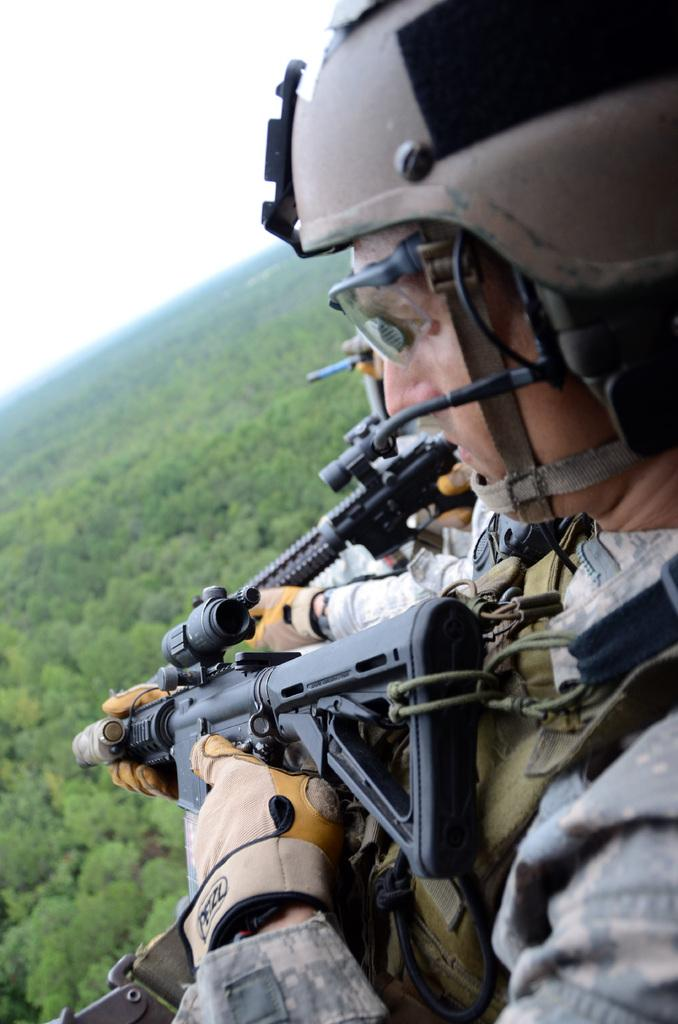Shotgun: (71, 579, 478, 875), (221, 413, 488, 623)
